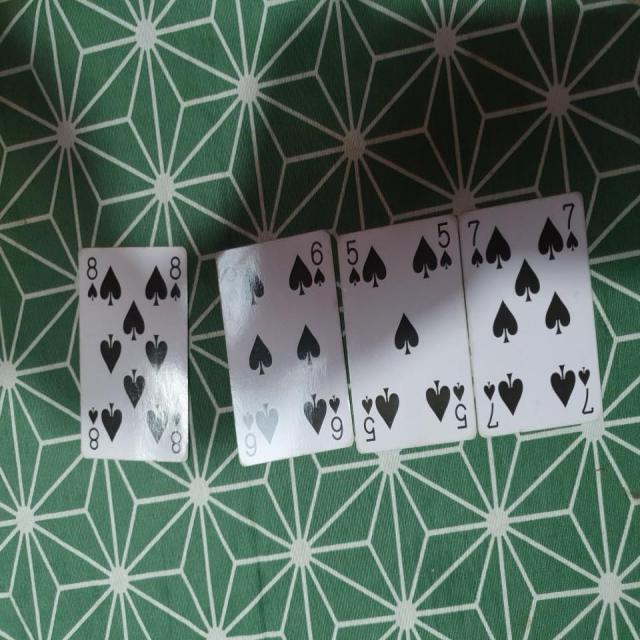5 of spades: (335, 214, 477, 454)
6 of spades: (208, 225, 356, 469)
7 of spades: (454, 185, 610, 442)
8 of spades: (73, 240, 199, 468)
